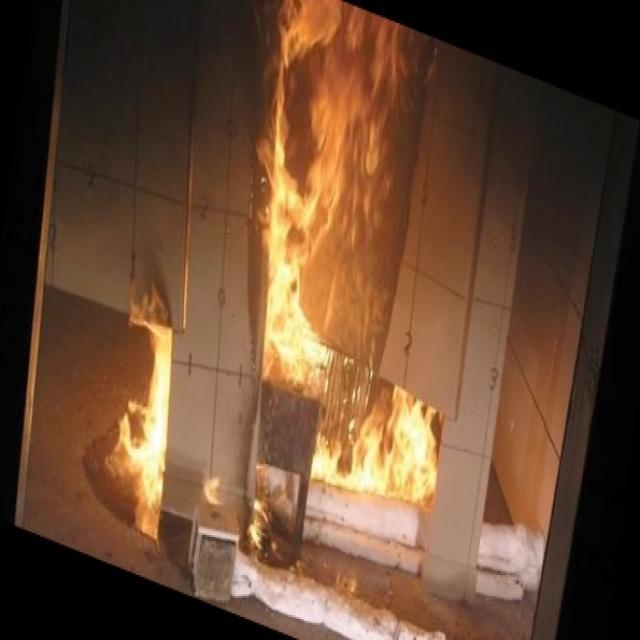fire: (203, 0, 496, 562), (79, 270, 208, 550)
